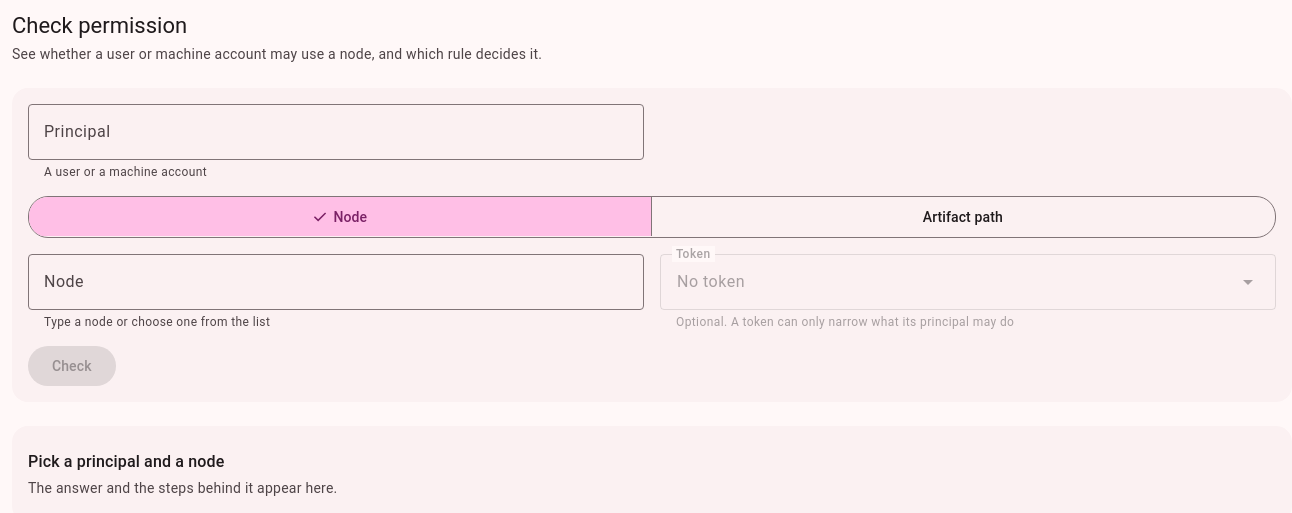
CheckPermissionView › the pickers › suggests principals while typing
This screenshot has width=1292, height=513.
In the dropdown labelled "Principal": (336, 132) [28,104,644,160], type "ci"
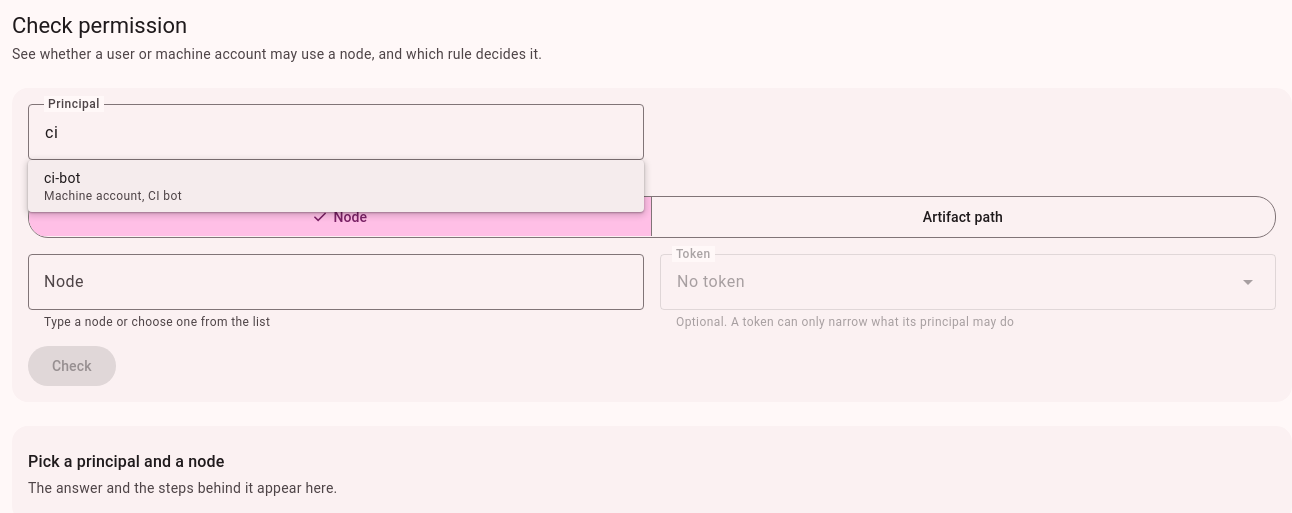
Now the elements with test id "option" read "ci-botMachine account, CI bot", in this order, box [44,170,182,203]
